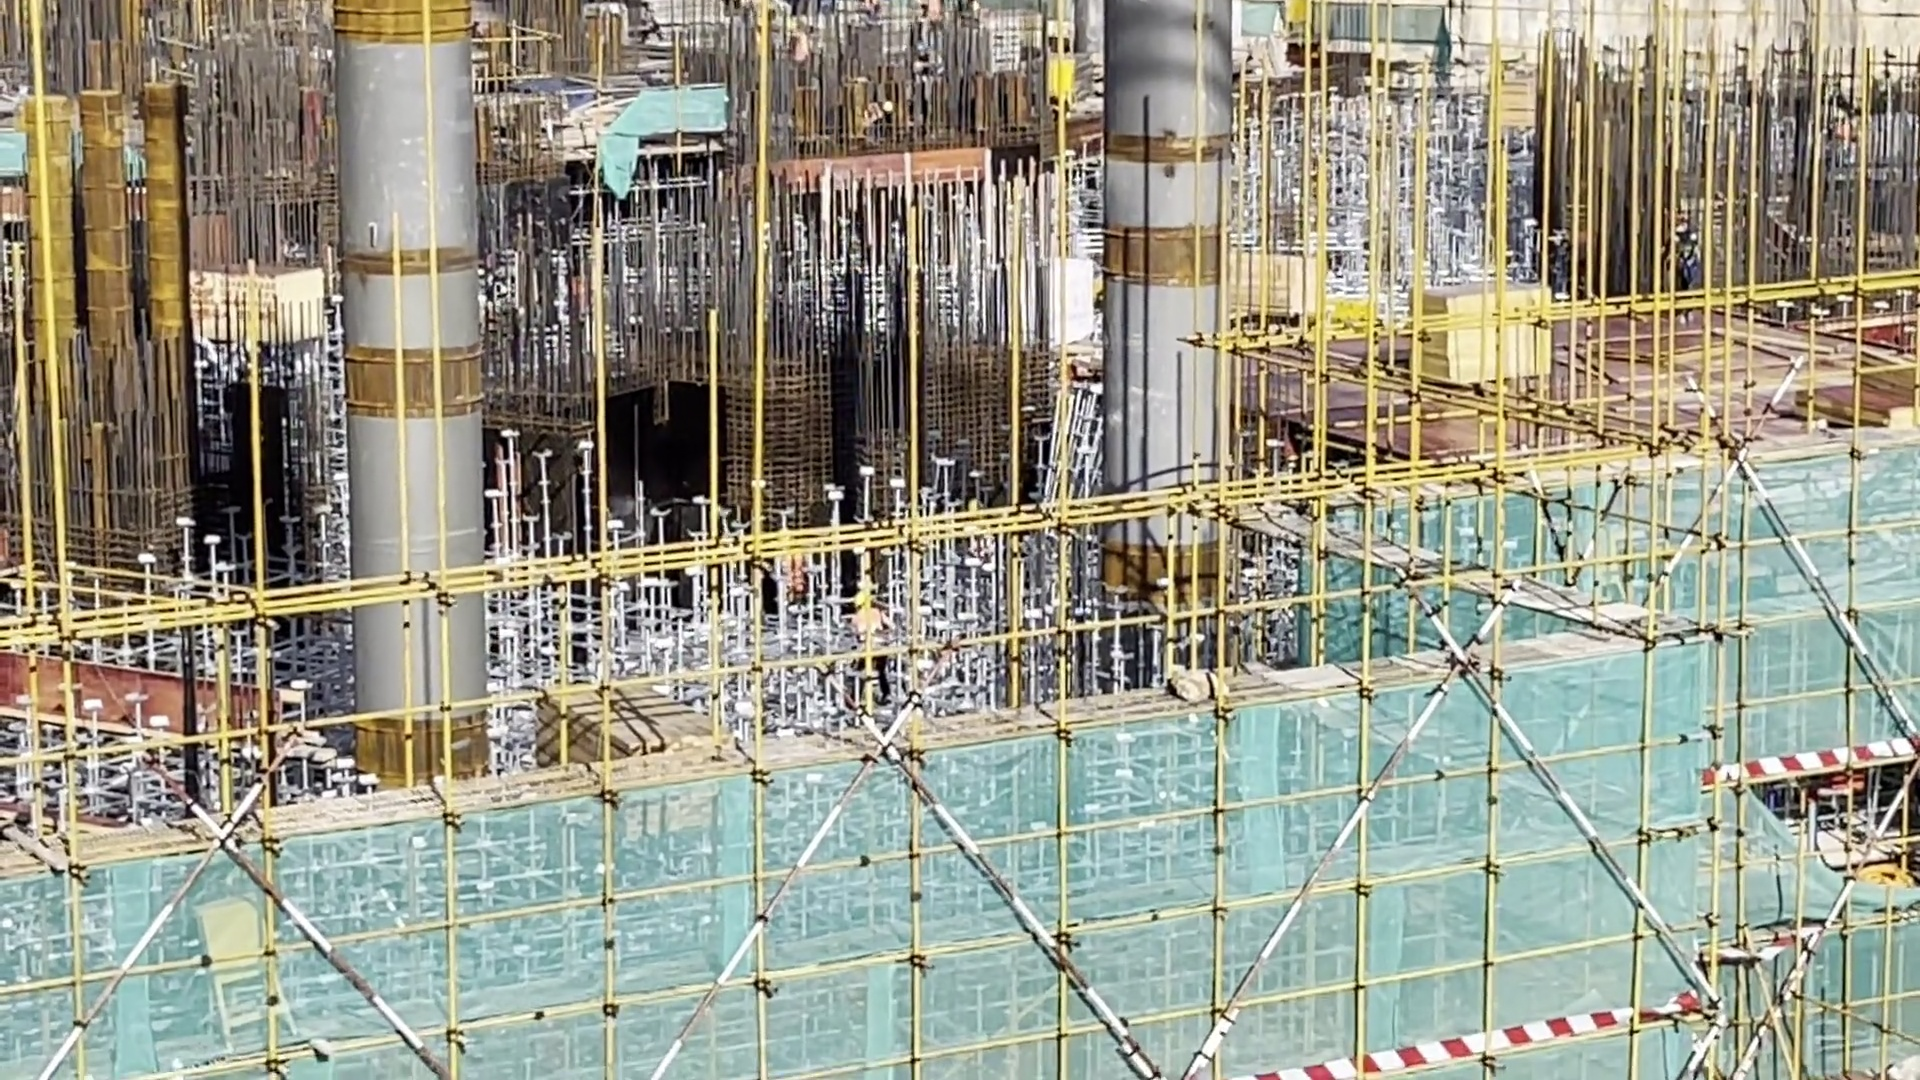ebox: (166, 896, 305, 1021), (1042, 46, 1083, 113), (1280, 1, 1310, 45)
person: (850, 88, 896, 128), (792, 13, 810, 75)
